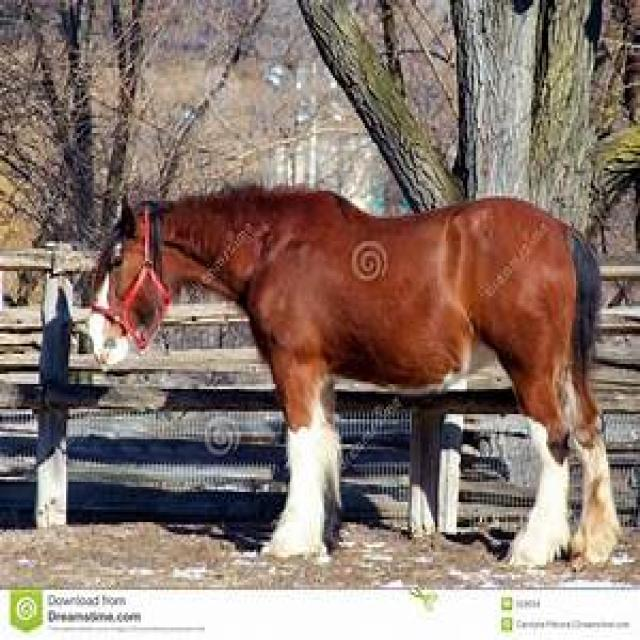animal: (88, 184, 613, 566)
